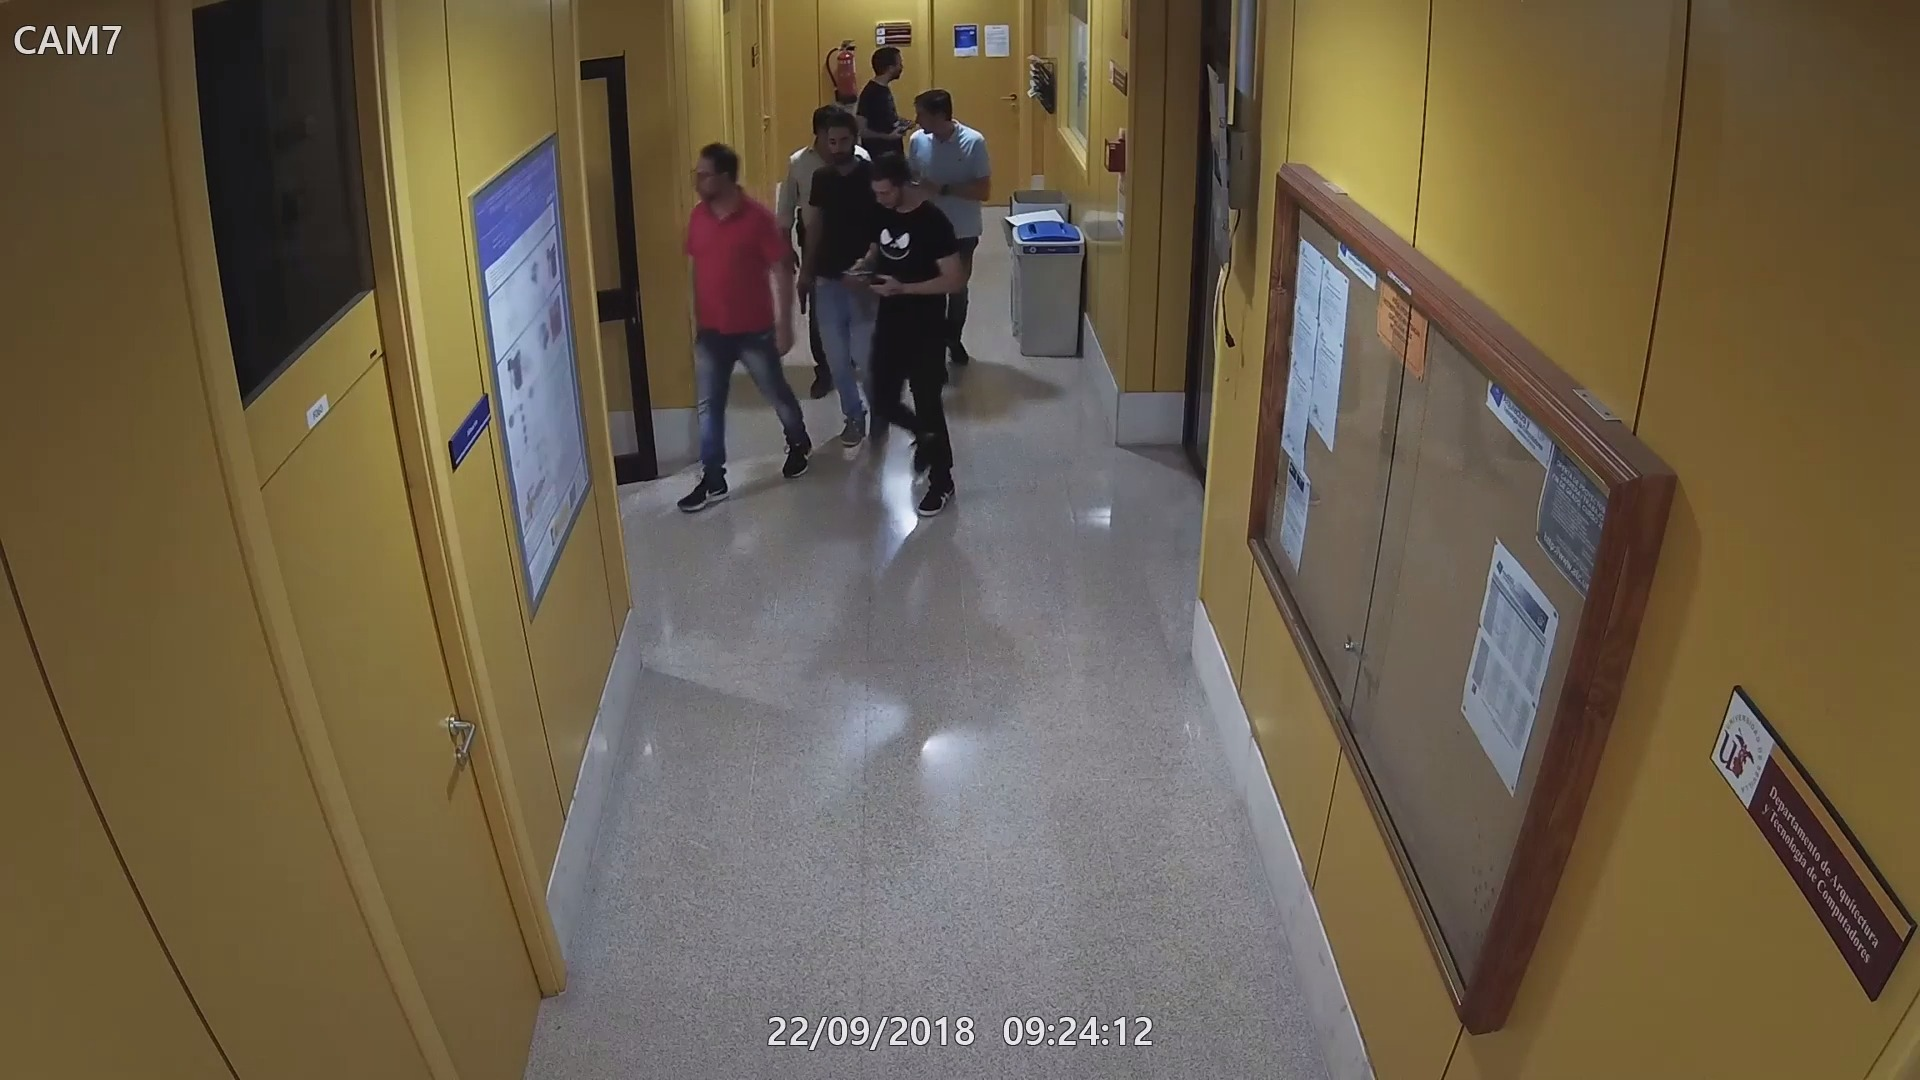pistol: (790, 265, 816, 318)
